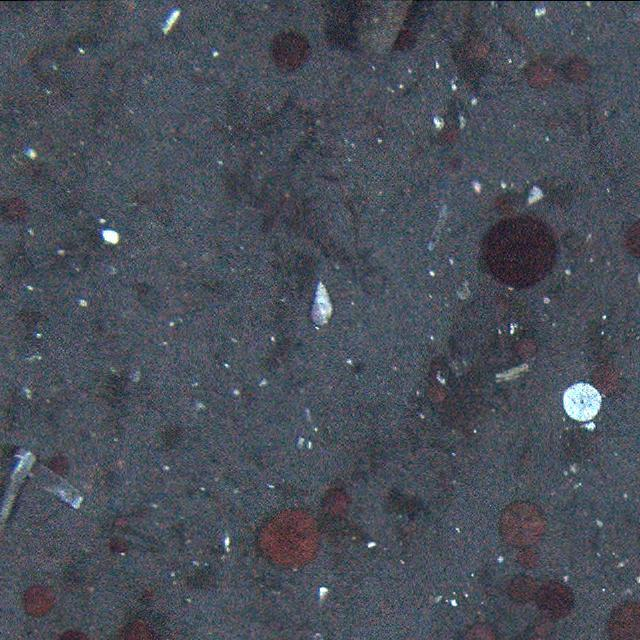whelk: (311, 278, 333, 329)
